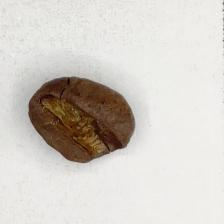NG: (39, 88, 124, 163)
